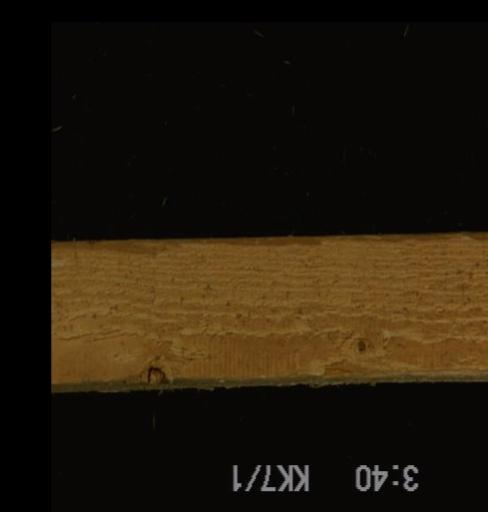dry_knot: (351, 330, 373, 358)
edge_knot: (129, 364, 179, 390)
wave: (50, 236, 318, 250)
